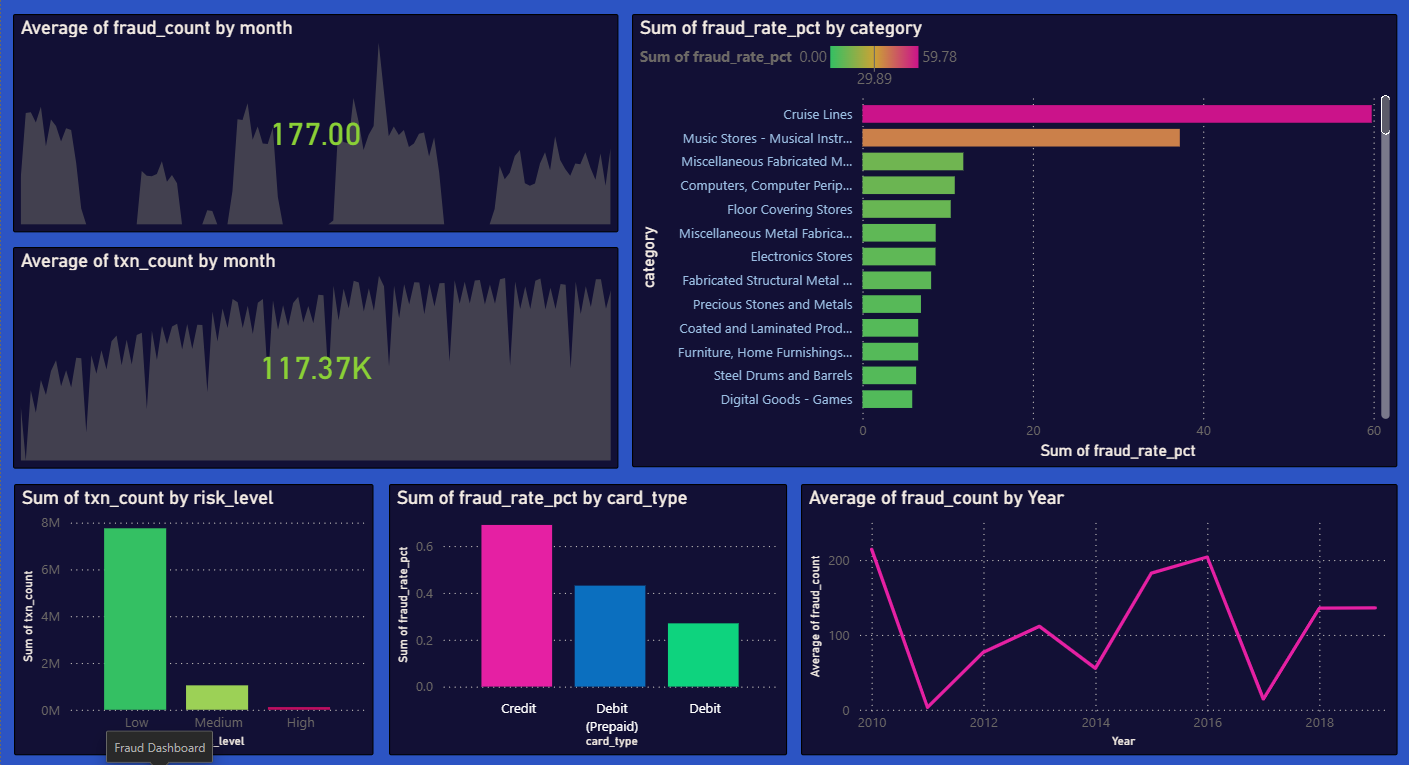

Layout of this report page (visuals, bound fields, positions):
{"tool":"powerbi","page":{"name":"Fraud Dashboard","canvas":[1280,720],"ordinal":0},"visuals":[{"type":"kpi","fields":{"Indicator":["Avg(agg_monthly_trends_202607042244.fraud_count)"],"TrendLine":["agg_monthly_trends_202607042244.month"]},"box":[11.1,36.7,548.9,197.8],"z":0},{"type":"kpi","fields":{"Indicator":["Avg(agg_monthly_trends_202607042244.txn_count)"],"TrendLine":["agg_monthly_trends_202607042244.month"]},"box":[10.7,247.1,549.3,200.7],"z":1000},{"type":"clusteredBarChart","fields":{"Category":["merchant_risk_202607021538.category"],"Y":["Sum(merchant_risk_202607021538.fraud_rate_pct)"]},"box":[572.2,36.7,694.4,411.1],"z":2000},{"type":"clusteredColumnChart","fields":{"Category":["agg_card_type_202607042247.card_type"],"Y":["Sum(agg_card_type_202607042247.fraud_rate_pct)"]},"box":[352.1,462.1,361.4,245.7],"z":3000},{"type":"lineChart","fields":{"Category":["agg_monthly_trends_202607042244.month.Variation.Date Hierarchy.Year","agg_monthly_trends_202607042244.month.Variation.Date Hierarchy.Quarter","agg_monthly_trends_202607042244.month.Variation.Date Hierarchy.Month","agg_monthly_trends_202607042244.month.Variation.Date Hierarchy.Day"],"Y":["Avg(agg_monthly_trends_202607042244.fraud_count)"]},"box":[725.7,462.1,540.7,245.7],"z":4000},{"type":"lineStackedColumnComboChart","fields":{"Category":["agg_fraud_scores_202607051521.risk_level"],"Y":["Sum(agg_fraud_scores_202607051521.txn_count)"]},"box":[11.4,462.1,326.4,245.7],"z":5000}]}

Visuals, with their boxes in screenshot pixels (x1, y1, x2, y2):
kpi - Avg(agg_monthly_trends_202607042244.fraud_count) x agg_monthly_trends_202607042244.month: (19, 21, 614, 236)
kpi - Avg(agg_monthly_trends_202607042244.txn_count) x agg_monthly_trends_202607042244.month: (19, 249, 614, 467)
clusteredBarChart - merchant_risk_202607021538.category x Sum(merchant_risk_202607021538.fraud_rate_pct): (627, 21, 1380, 467)
clusteredColumnChart - agg_card_type_202607042247.card_type x Sum(agg_card_type_202607042247.fraud_rate_pct): (389, 482, 781, 749)
lineChart - agg_monthly_trends_202607042244.month.Variation.Date Hierarchy.Year x agg_monthly_trends_202607042244.month.Variation.Date Hierarchy.Quarter: (794, 482, 1380, 749)
lineStackedColumnComboChart - agg_fraud_scores_202607051521.risk_level x Sum(agg_fraud_scores_202607051521.txn_count): (20, 482, 373, 749)
